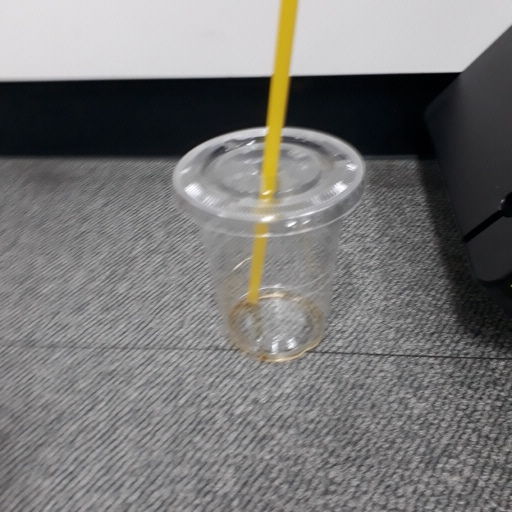Plastic_2: (165, 2, 366, 364)
